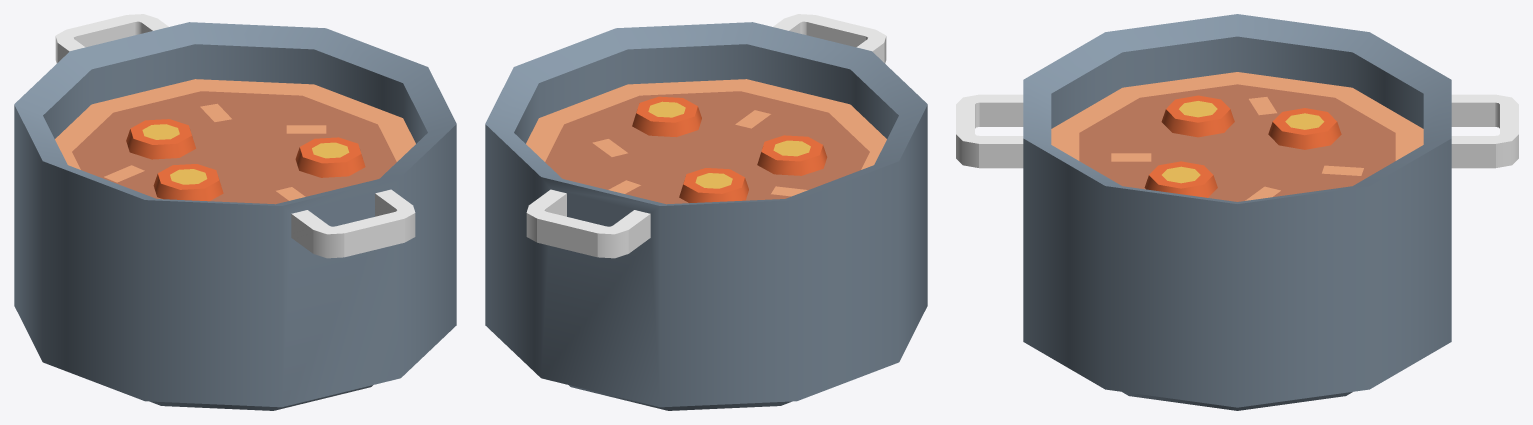
File: potStew.obj
The picture shows the model from 3 angles, left to right: view 1: azimuth 30°, elevation 25°; view 2: azimuth 150°, elevation 25°; view 3: azimuth 270°, elevation 25°; orthographic projection.
Parts seen in each view (by area): view 1: potStew; view 2: potStew; view 3: potStew.
Part boxes in pixels (<box>): potStew: <box>14,14,456,410</box>; potStew: <box>485,14,927,410</box>; potStew: <box>956,14,1518,410</box>.
Size of the model in its own units: 0.6574 by 0.3608 by 0.8221.
